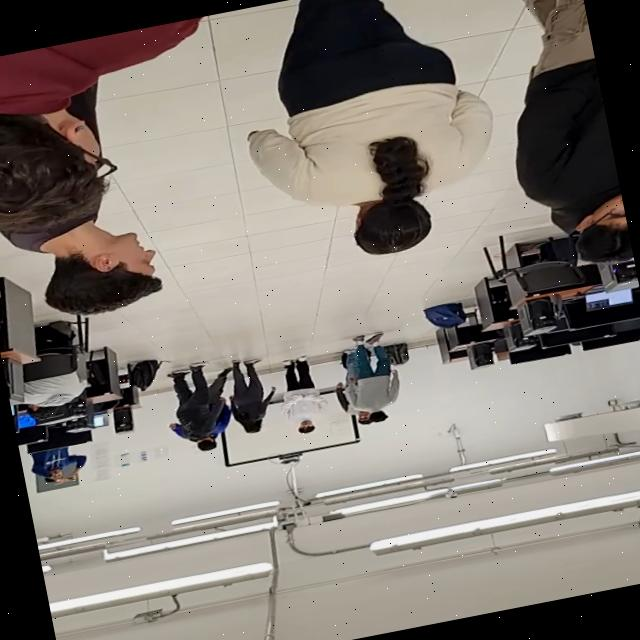Persona: (223, 0, 499, 290), (0, 15, 244, 239), (0, 81, 173, 338), (487, 0, 634, 278), (332, 324, 414, 428), (170, 356, 235, 457), (274, 354, 330, 442), (220, 354, 274, 444)
